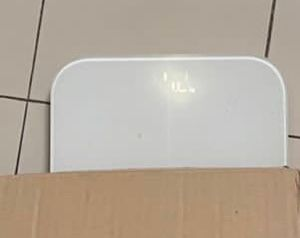4.2KG: (148, 65, 223, 98)
